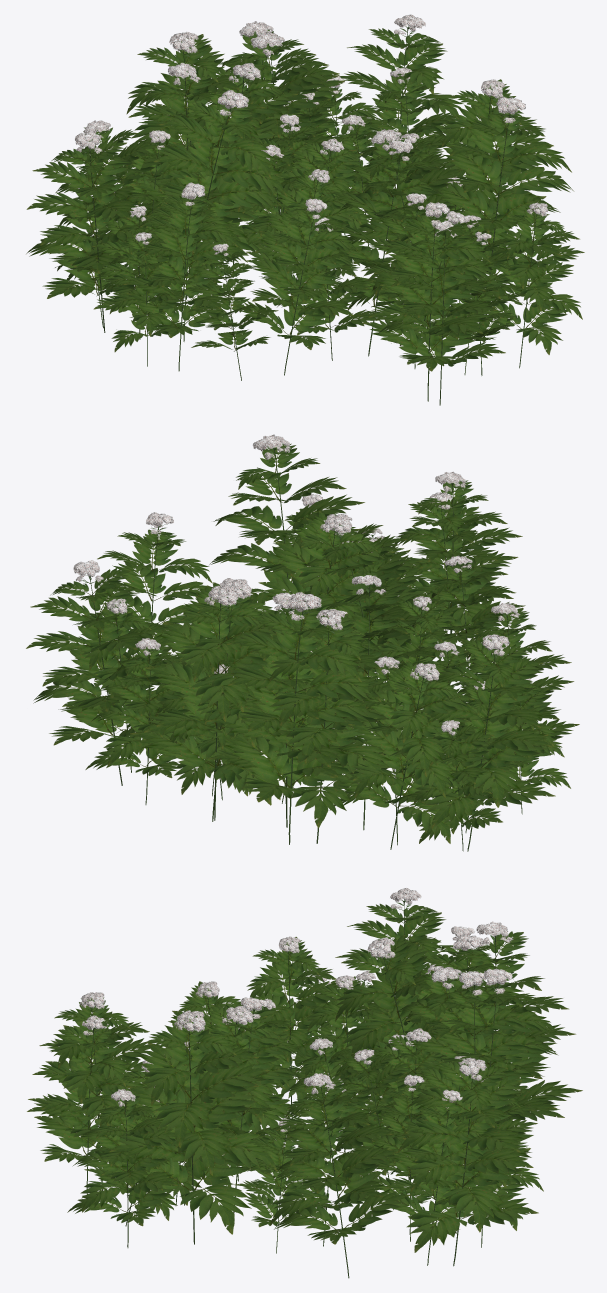
File: smrdljivibezeg_trop2.gltf
3 views of the same model, one above another, from view 1: azimuth 30°, elevation 25°; view 2: azimuth 150°, elevation 25°; view 3: azimuth 270°, elevation 25° (orthographic). The views are drawn at different scales.
Visible parts, largest first — view 1: SMRDLIVI_BEZEG.020, SMRDLIVI_BEZEG.006, SMRDLIVI_BEZEG.024, SMRDLIVI_BEZEG.018, SMRDLIVI_BEZEG.009, SMRDLIVI_BEZEG.023, SMRDLIVI_BEZEG.021, SMRDLIVI_BEZEG.004, SMRDLIVI_BEZEG.013, SMRDLIVI_BEZEG.015, SMRDLIVI_BEZEG.005, SMRDLIVI_BEZEG.040 (+26 smaller); view 2: SMRDLIVI_BEZEG.005, SMRDLIVI_BEZEG.024, SMRDLIVI_BEZEG.035, SMRDLIVI_BEZEG.026, SMRDLIVI_BEZEG.004, SMRDLIVI_BEZEG.008, SMRDLIVI_BEZEG.020, SMRDLIVI_BEZEG.013, SMRDLIVI_BEZEG.018, SMRDLIVI_BEZEG.040, SMRDLIVI_BEZEG.002, SMRDLIVI_BEZEG.032 (+17 smaller); view 3: SMRDLIVI_BEZEG.020, SMRDLIVI_BEZEG.004, SMRDLIVI_BEZEG.040, SMRDLIVI_BEZEG.021, SMRDLIVI_BEZEG.006, SMRDLIVI_BEZEG.018, SMRDLIVI_BEZEG.023, SMRDLIVI_BEZEG.035, SMRDLIVI_BEZEG.015, SMRDLIVI_BEZEG.005, SMRDLIVI_BEZEG.032, SMRDLIVI_BEZEG.001 (+22 smaller).
Boxes of the visible parts, left/top/right/bottom form: SMRDLIVI_BEZEG.020: left=434, top=96, right=573, bottom=342; SMRDLIVI_BEZEG.006: left=130, top=89, right=287, bottom=299; SMRDLIVI_BEZEG.024: left=26, top=132, right=156, bottom=332; SMRDLIVI_BEZEG.018: left=361, top=202, right=496, bottom=401; SMRDLIVI_BEZEG.009: left=230, top=198, right=358, bottom=375; SMRDLIVI_BEZEG.023: left=123, top=186, right=247, bottom=371; SMRDLIVI_BEZEG.021: left=479, top=202, right=584, bottom=368; SMRDLIVI_BEZEG.004: left=334, top=14, right=464, bottom=189; SMRDLIVI_BEZEG.013: left=339, top=129, right=480, bottom=328; SMRDLIVI_BEZEG.015: left=377, top=220, right=505, bottom=405; SMRDLIVI_BEZEG.005: left=112, top=32, right=265, bottom=254; SMRDLIVI_BEZEG.040: left=431, top=79, right=553, bottom=260; SMRDLIVI_BEZEG.005: left=206, top=592, right=381, bottom=844; SMRDLIVI_BEZEG.024: left=421, top=634, right=555, bottom=851; SMRDLIVI_BEZEG.035: left=130, top=585, right=284, bottom=820; SMRDLIVI_BEZEG.026: left=330, top=660, right=474, bottom=849; SMRDLIVI_BEZEG.004: left=26, top=560, right=171, bottom=785; SMRDLIVI_BEZEG.008: left=265, top=609, right=395, bottom=843; SMRDLIVI_BEZEG.020: left=209, top=434, right=364, bottom=612; SMRDLIVI_BEZEG.013: left=258, top=511, right=400, bottom=682; SMRDLIVI_BEZEG.018: left=396, top=471, right=522, bottom=684; SMRDLIVI_BEZEG.040: left=97, top=512, right=213, bottom=688; SMRDLIVI_BEZEG.002: left=85, top=638, right=204, bottom=804; SMRDLIVI_BEZEG.032: left=132, top=579, right=299, bottom=821; SMRDLIVI_BEZEG.020: left=109, top=1009, right=277, bottom=1244; SMRDLIVI_BEZEG.004: left=398, top=1058, right=538, bottom=1266; SMRDLIVI_BEZEG.040: left=270, top=1073, right=411, bottom=1278; SMRDLIVI_BEZEG.021: left=67, top=1088, right=177, bottom=1247; SMRDLIVI_BEZEG.006: left=331, top=935, right=460, bottom=1095; SMRDLIVI_BEZEG.018: left=27, top=992, right=160, bottom=1190; SMRDLIVI_BEZEG.023: left=239, top=936, right=345, bottom=1115; SMRDLIVI_BEZEG.035: left=414, top=968, right=564, bottom=1157; SMRDLIVI_BEZEG.015: left=28, top=1015, right=144, bottom=1194; SMRDLIVI_BEZEG.005: left=439, top=921, right=582, bottom=1119; SMRDLIVI_BEZEG.032: left=398, top=971, right=557, bottom=1155; SMRDLIVI_BEZEG.001: left=384, top=1089, right=492, bottom=1265.
Bounding box in the file's own units: 6.17 × 2.91 × 6.16.
Materials: 5 (5 with a texture image).
